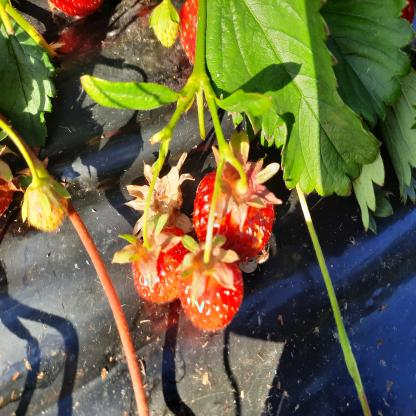ripe: (198, 173, 274, 264), (183, 246, 242, 323), (126, 232, 190, 300), (176, 3, 219, 66)
unripe: (26, 182, 66, 232), (152, 2, 179, 46)
